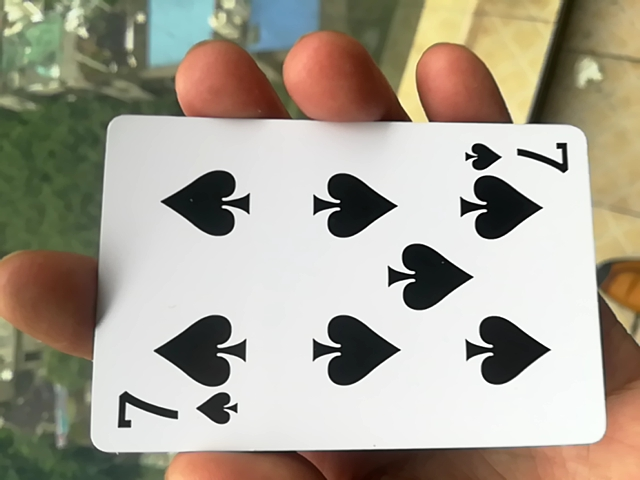ht 7: (76, 111, 601, 468)
